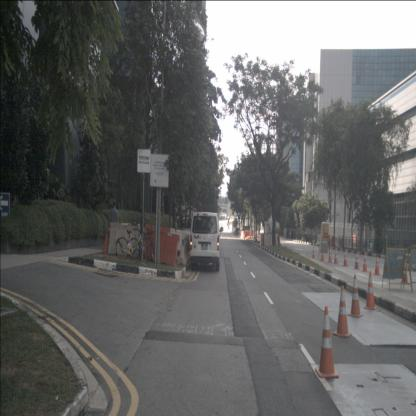barrier: (144, 228, 180, 268), (108, 221, 141, 257), (177, 233, 188, 266), (263, 233, 279, 247), (244, 230, 254, 239), (240, 230, 244, 240)
cone: (315, 305, 339, 378), (333, 285, 352, 338), (348, 274, 364, 317), (364, 270, 378, 310), (400, 258, 409, 285), (373, 254, 381, 275), (362, 252, 369, 273), (342, 249, 350, 267), (353, 251, 360, 270), (102, 232, 108, 254), (333, 246, 339, 264), (319, 247, 326, 262), (327, 246, 332, 263), (311, 246, 316, 262)
